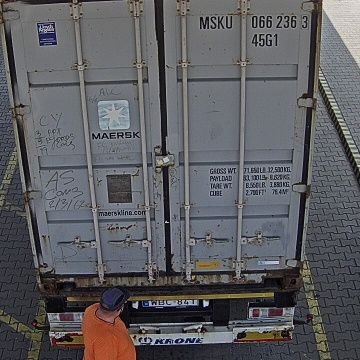serial_id: (199, 15, 309, 28)
